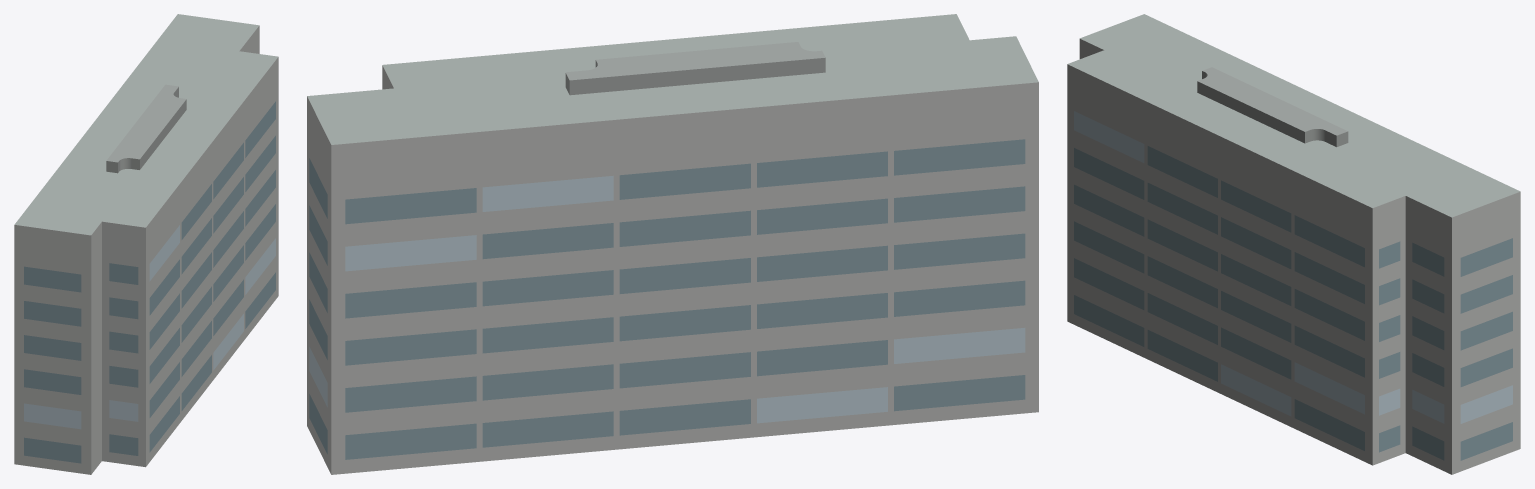
File: fallback-gaepo-xi-presidence-433.glb
3 views of the same model, side by side, from view 1: azimuth 30°, elevation 25°; view 2: azimuth 150°, elevation 25°; view 3: azimuth 270°, elevation 25° (orthographic). The views are drawn at different scales.
Parts seen in each view (by area): view 1: fallback-gaepo-xi-presidence-433; view 2: fallback-gaepo-xi-presidence-433; view 3: fallback-gaepo-xi-presidence-433.
Part boxes in pixels (box(x1,y1,x2,y2)): fallback-gaepo-xi-presidence-433: box(14, 14, 278, 474); fallback-gaepo-xi-presidence-433: box(307, 14, 1038, 474); fallback-gaepo-xi-presidence-433: box(1067, 14, 1520, 474).
Bounding box in the file's own units: 36.22 × 22.31 × 34.1.
